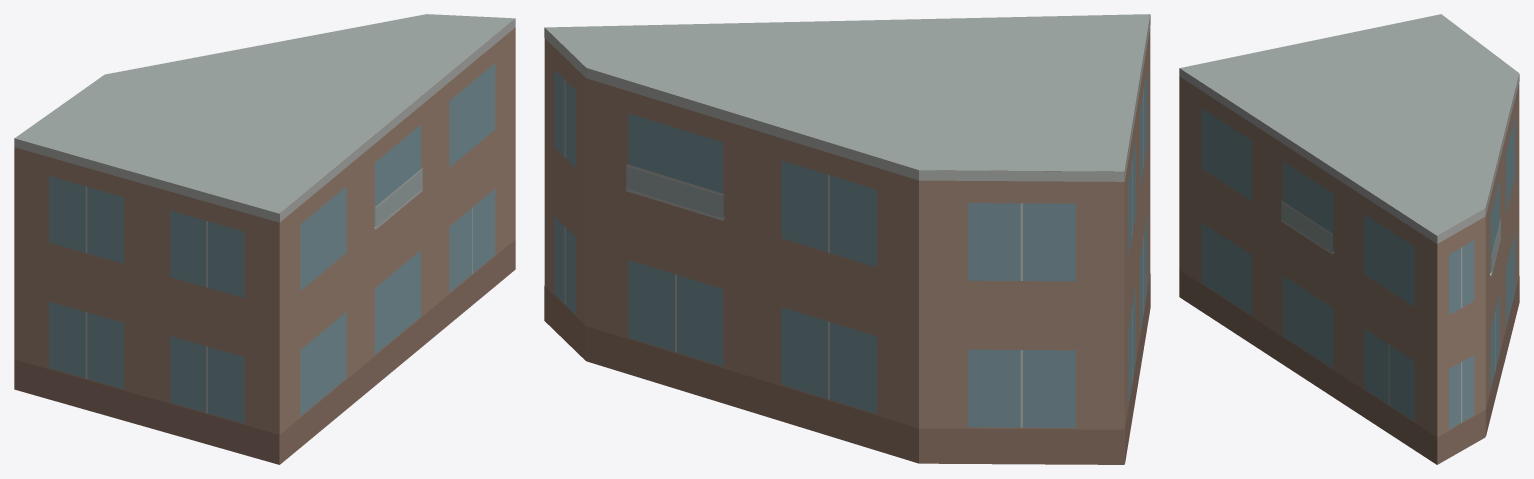
Rendered from survey-upis-32964847.glb.
The picture shows the model from 3 angles, left to right: view 1: azimuth 30°, elevation 25°; view 2: azimuth 150°, elevation 25°; view 3: azimuth 270°, elevation 25°; orthographic projection. The views are drawn at different scales.
Visible parts, largest first — view 1: survey-upis-32964847.tmp; view 2: survey-upis-32964847.tmp; view 3: survey-upis-32964847.tmp.
Part boxes in pixels (left/top/right/bottom): survey-upis-32964847.tmp: left=14, top=14, right=515, bottom=464; survey-upis-32964847.tmp: left=544, top=14, right=1150, bottom=464; survey-upis-32964847.tmp: left=1179, top=14, right=1519, bottom=464.
Bounding box in the file's own units: 14.35 × 6.9 × 9.3.
